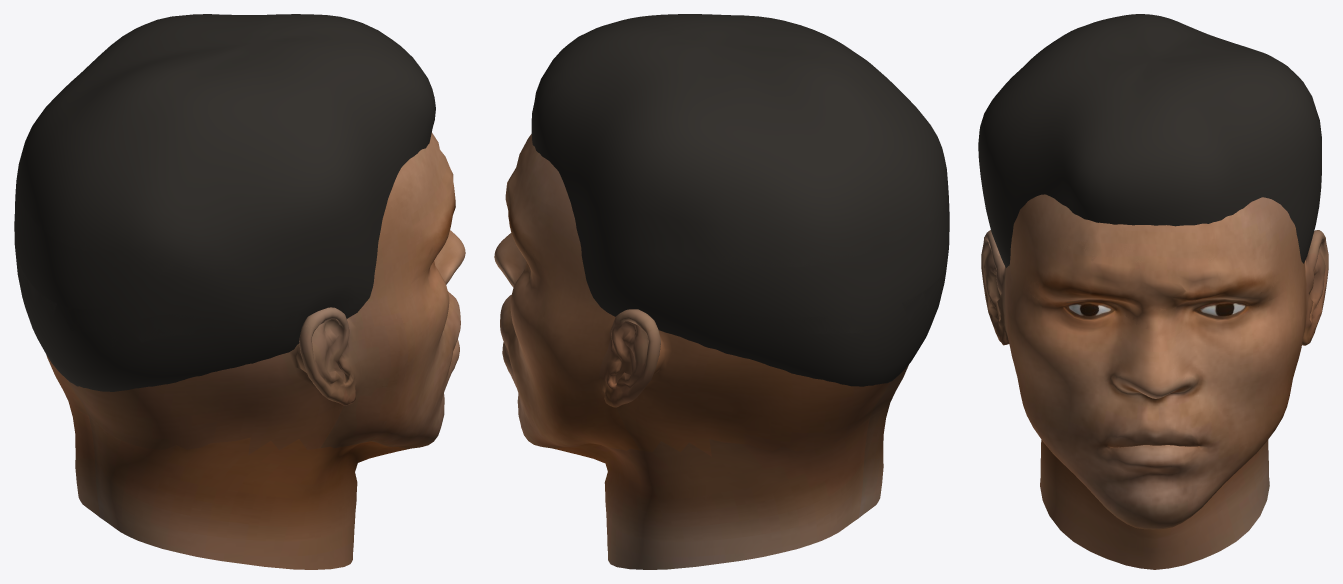
File: Knock.glb
The picture shows the model from 3 angles, left to right: view 1: azimuth 30°, elevation 25°; view 2: azimuth 150°, elevation 25°; view 3: azimuth 270°, elevation 25°; orthographic projection. The views are drawn at different scales.
Parts seen in each view (by area): view 1: 1.Legs, hatline, eyeline; view 2: 1.Legs, hatline, eyeline; view 3: 1.Legs, hatline, eyeline.
Part boxes in pixels (<box>): 1.Legs: <box>14,14,465,569</box>; hatline: <box>18,14,439,275</box>; eyeline: <box>15,247,436,346</box>; 1.Legs: <box>494,14,949,569</box>; hatline: <box>515,14,947,267</box>; eyeline: <box>515,243,947,345</box>; 1.Legs: <box>978,17,1328,569</box>; hatline: <box>1004,14,1316,266</box>; eyeline: <box>988,230,1325,333</box>.
Bounding box in the file's own units: 0.3275 × 0.3802 × 0.2553.
Materials: 3 (2 with a texture image).
